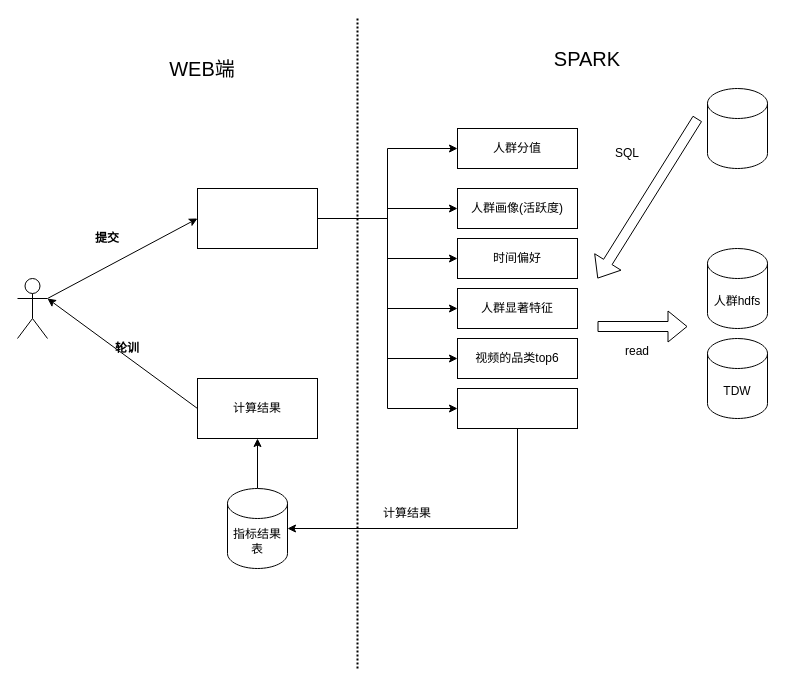
Some shapes in this 785 by 687 pixel diagram are drawn without their labels. Each missing label, with the centre of its shape:
User: [32,308]
指标定义表: [737,128]
片单top20: [517,408]
计算Task: [257,218]
